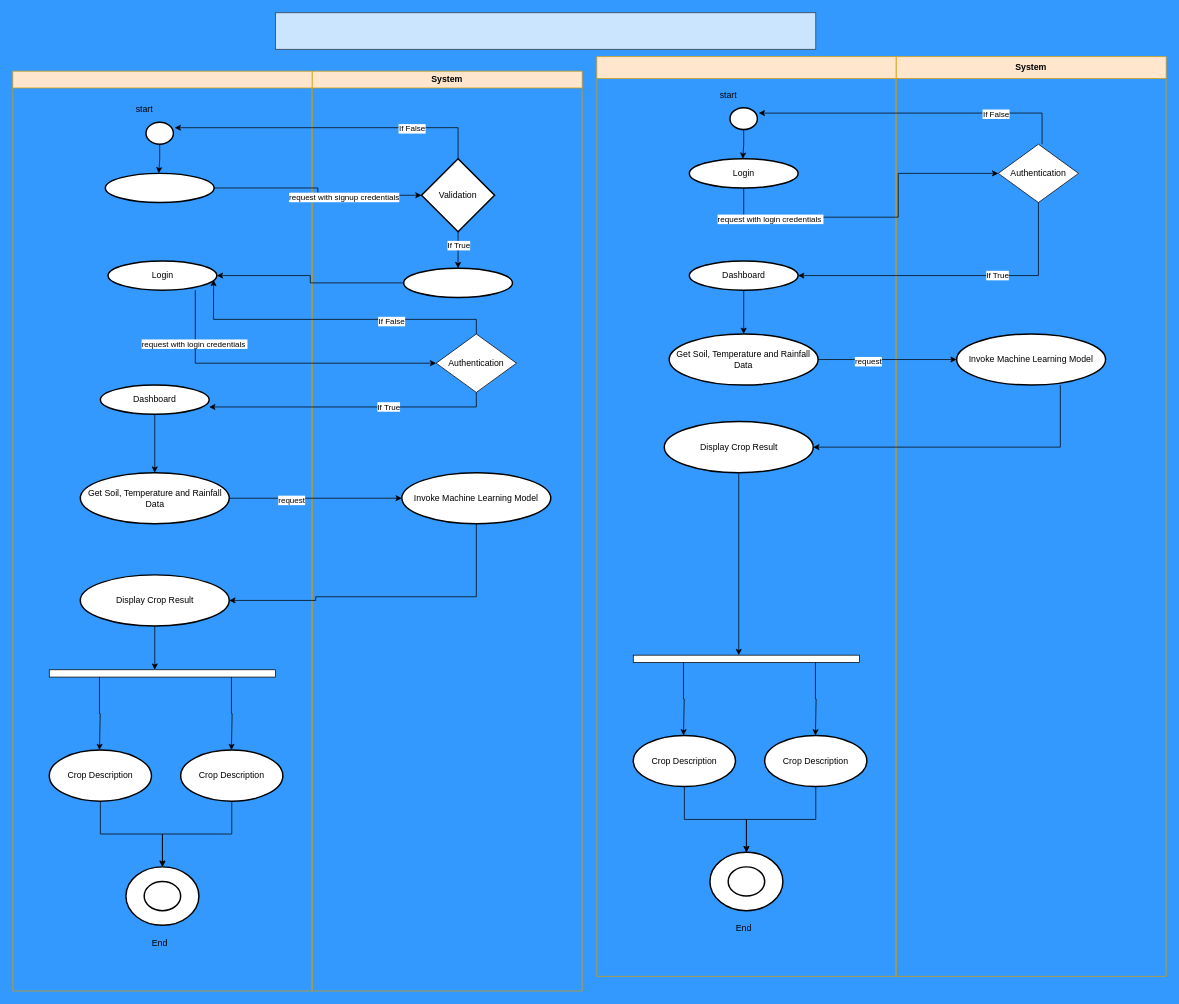
The diagram is 1179 pixels wide and 1004 high, and some of its shapes have lost their labels. The shapes that lost their labels are listed below. From the top down, each one's box as (x1, y1, x2, y2) in pixels, then its label:
(275, 12, 816, 49): Crop Remommendation System
(104, 172, 214, 203): Registration
(403, 267, 513, 298): Create Account
(12, 70, 312, 991): User
(596, 56, 896, 976): Admin
